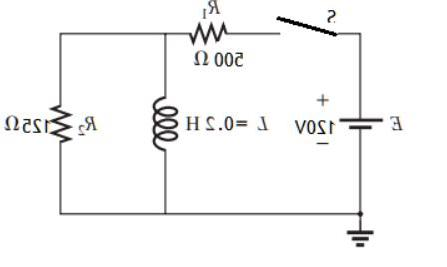inductor: (146, 84, 172, 154)
